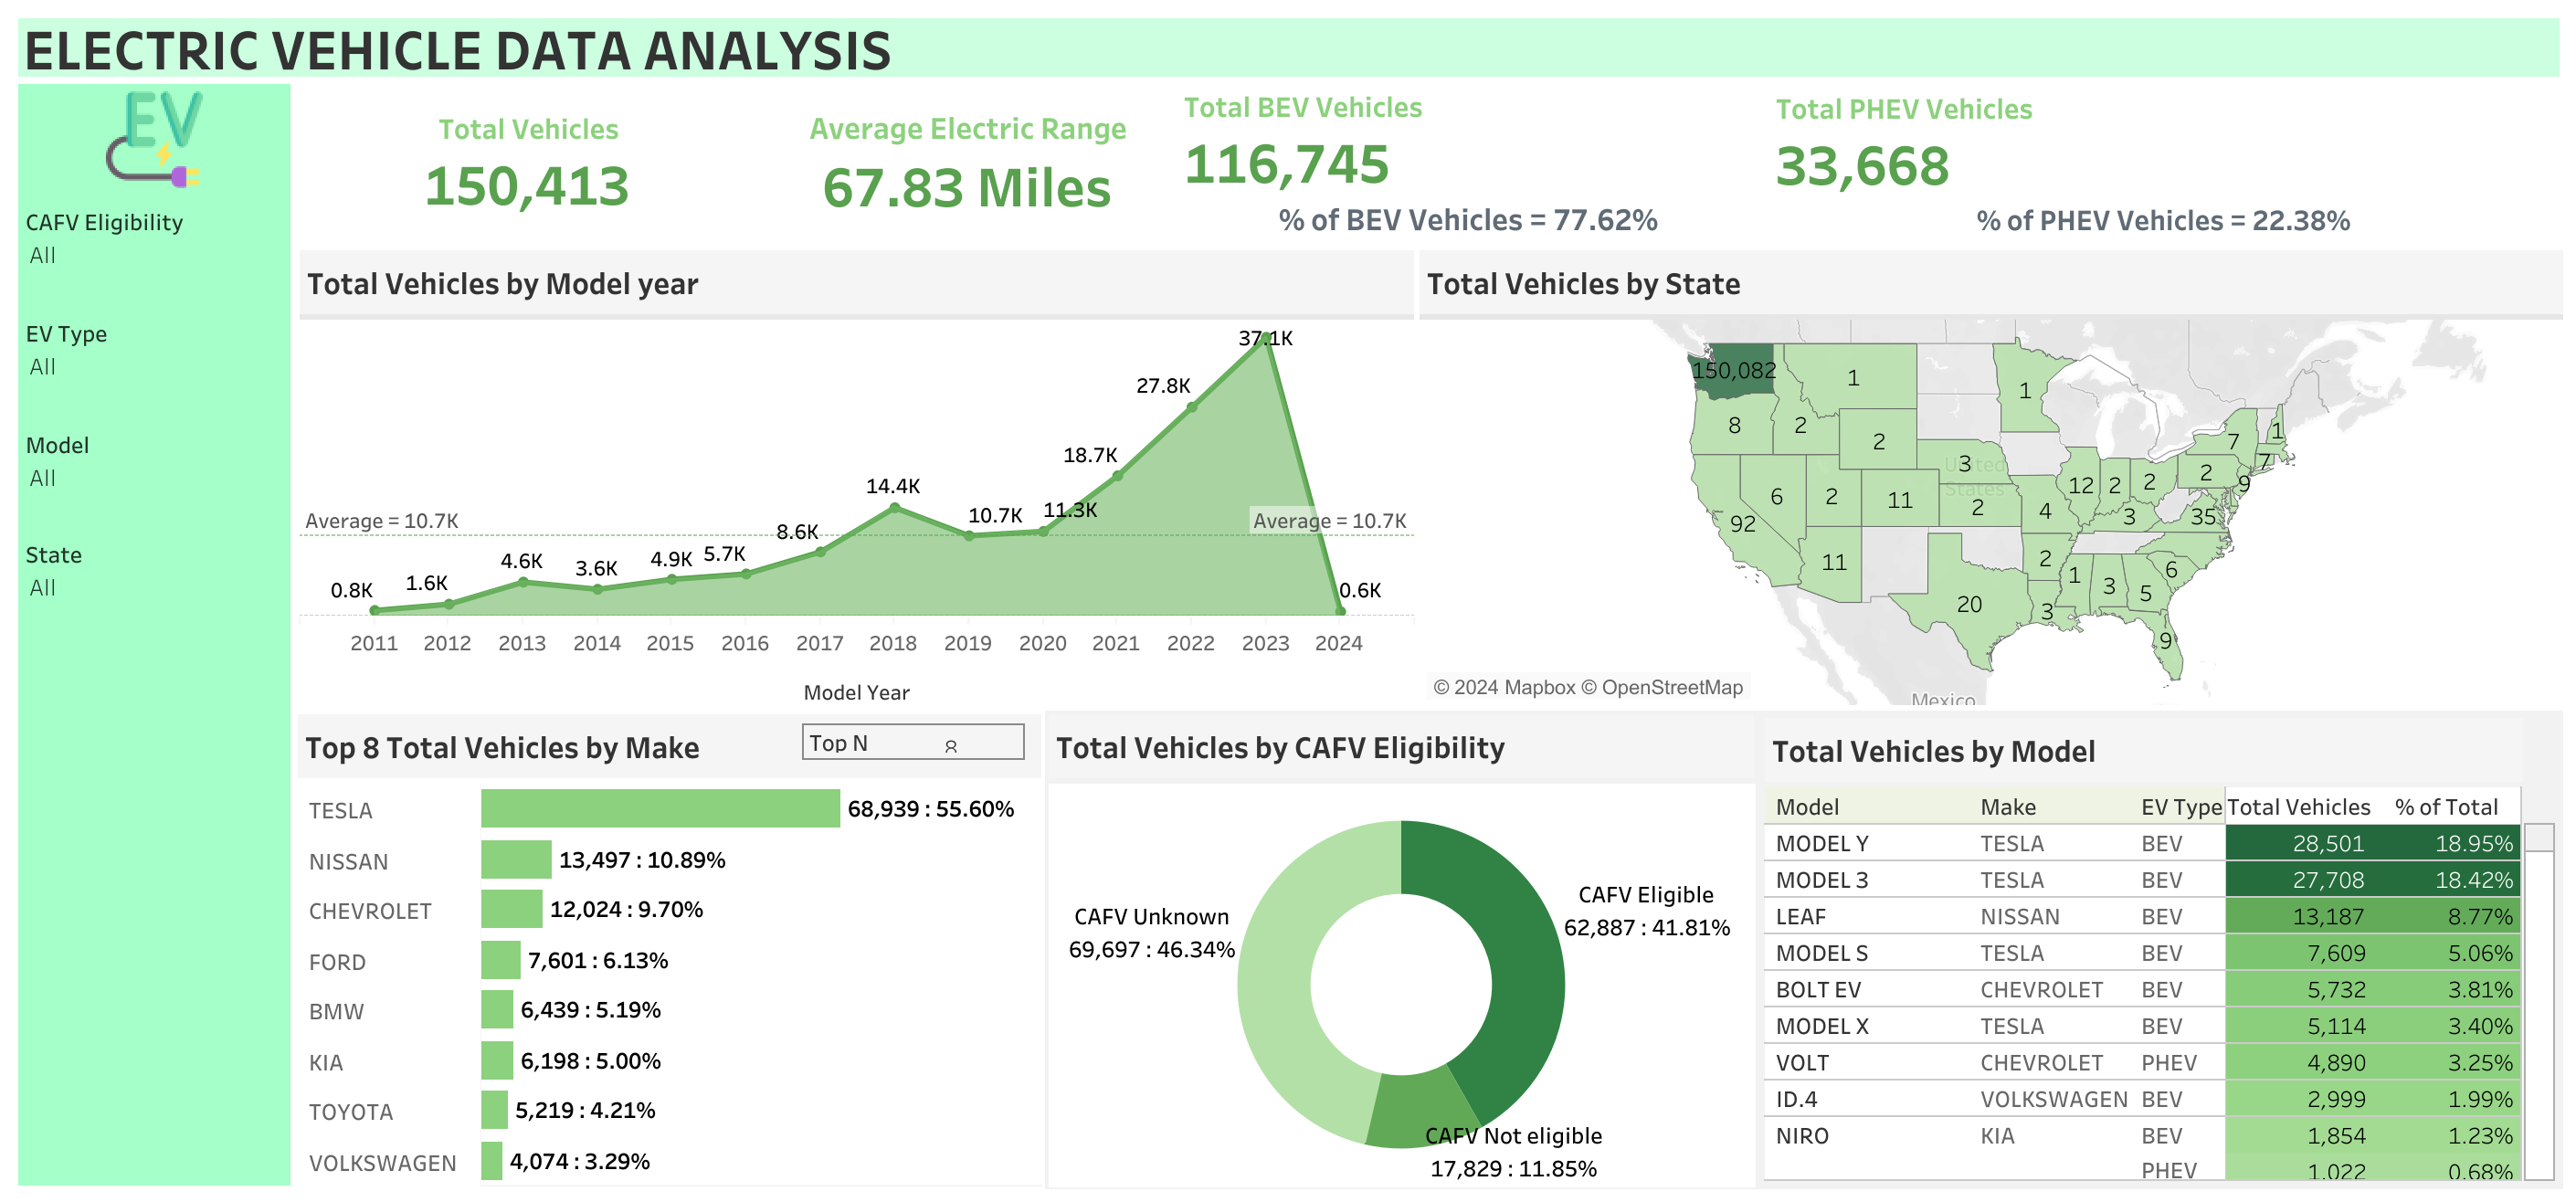

This screenshot's page, from the dashboard's own definition file:
{"tool":"tableau","page":{"name":"ELECTRIC VEHICLE DATA ANALYSIS","canvas":[1000,1000],"units":"permille","ordinal":0},"visuals":[{"type":"title","box":[6.5,11.5,987,54.3]},{"type":"worksheet","title":"Total Vehicles","mark":"Automatic","box":[114.7,65.8,209.1,139.4]},{"type":"worksheet","title":"Average Electric Range","mark":"Automatic","box":[323.8,65.8,182.3,139.4]},{"type":"worksheet","title":"Total BEV Vehicles","mark":"Automatic","box":[506,65.8,263.6,139.4]},{"type":"worksheet","title":"Total PHEV Vehicles","mark":"Automatic","box":[769.6,65.8,223.8,139.4]},{"type":"image","param":"Image/ev 7.23.20 PM.png","box":[8.1,69.3,105,92.4]},{"type":"filter","title":"Total Vehicles by State","param":"[federated.1nwwufy02g5hty1cnp6be1wgf8vh].[none:Clean Alternative Fuel Vehicle (C","box":[8.1,161.6,105,92.4]},{"type":"worksheet","title":"Total Vehicles by Model year","mark":"Automatic","rows":["Calculation_3022619093035126784","Calculation_3022619093035126784"],"cols":["Model Year"],"box":[114.7,205.2,434.1,385.5]},{"type":"worksheet","title":"Total Vehicles by State","mark":"Automatic","box":[548.8,205.2,444.7,385.5]},{"type":"filter","title":"Total Vehicles by State","param":"[federated.1nwwufy02g5hty1cnp6be1wgf8vh].[none:Electric Vehicle Type:nk]","box":[8.1,254,105,92.4]},{"type":"filter","title":"Total Vehicles by State","param":"[federated.1nwwufy02g5hty1cnp6be1wgf8vh].[none:Model:nk]","box":[8.1,346.3,105,92.4]},{"type":"filter","title":"Total Vehicles by State","param":"[federated.1nwwufy02g5hty1cnp6be1wgf8vh].[none:State:nk]","box":[8.1,438.7,105,92.4]},{"type":"blank","box":[8.1,531,105,90.9]},{"type":"worksheet","title":"Top 10 Total Vehicles by Make","mark":"Automatic","rows":["Make"],"cols":["Calculation_3022619093035126784"],"box":[114.7,590.6,290.8,397.8]},{"type":"worksheet","title":"Total Vehicles by CAFV Eligibility","mark":"Pie","rows":["Calculation_3022619093414420488","Calculation_3022619093414625290"],"box":[405.5,590.6,229.2,397.8]},{"type":"worksheet","title":"Total Vehicles by Model","mark":"Square","rows":["Model","Make","Electric Vehicle Type"],"box":[634.7,590.6,358.8,397.8]},{"type":"parameter","param":"[Parameters].[Parameter 1]","box":[310.9,600.2,86.5,30.9]},{"type":"blank","box":[8.1,621.9,105,90.9]},{"type":"blank","box":[8.1,712.8,105,90.9]},{"type":"blank","box":[8.1,803.8,105,90.9]},{"type":"blank","box":[8.1,894.7,105,90.9]}]}

Visuals, with their boxes on the dashboard's canvas, which has no fixed pixel size, in thousandths of its width and height (x1, y1, x2, y2). These are canvas units, not pixel positions in the 2576x1202 screenshot, which may show the page scaled, cropped or inside an application window:
title: {"left": 6, "top": 12, "right": 994, "bottom": 66}
"Total Vehicles" worksheet: {"left": 115, "top": 66, "right": 324, "bottom": 205}
"Average Electric Range" worksheet: {"left": 324, "top": 66, "right": 506, "bottom": 205}
"Total BEV Vehicles" worksheet: {"left": 506, "top": 66, "right": 770, "bottom": 205}
"Total PHEV Vehicles" worksheet: {"left": 770, "top": 66, "right": 993, "bottom": 205}
image: {"left": 8, "top": 69, "right": 113, "bottom": 162}
"Total Vehicles by State" filter: {"left": 8, "top": 162, "right": 113, "bottom": 254}
"Total Vehicles by Model year" worksheet: {"left": 115, "top": 205, "right": 549, "bottom": 591}
"Total Vehicles by State" worksheet: {"left": 549, "top": 205, "right": 994, "bottom": 591}
"Total Vehicles by State" filter: {"left": 8, "top": 254, "right": 113, "bottom": 346}
"Total Vehicles by State" filter: {"left": 8, "top": 346, "right": 113, "bottom": 439}
"Total Vehicles by State" filter: {"left": 8, "top": 439, "right": 113, "bottom": 531}
blank: {"left": 8, "top": 531, "right": 113, "bottom": 622}
"Top 10 Total Vehicles by Make" worksheet: {"left": 115, "top": 591, "right": 406, "bottom": 988}
"Total Vehicles by CAFV Eligibility" worksheet (Pie marks): {"left": 406, "top": 591, "right": 635, "bottom": 988}
"Total Vehicles by Model" worksheet (Square marks): {"left": 635, "top": 591, "right": 994, "bottom": 988}
parameter: {"left": 311, "top": 600, "right": 397, "bottom": 631}
blank: {"left": 8, "top": 622, "right": 113, "bottom": 713}
blank: {"left": 8, "top": 713, "right": 113, "bottom": 804}
blank: {"left": 8, "top": 804, "right": 113, "bottom": 895}
blank: {"left": 8, "top": 895, "right": 113, "bottom": 986}
